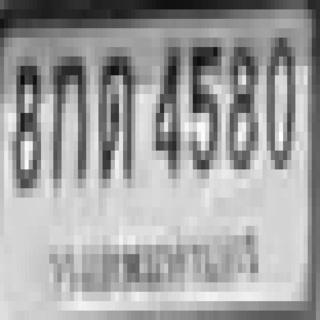A01: (45, 38, 90, 188)
A20: (90, 47, 135, 179)
N00: (263, 38, 291, 160)
N04: (148, 38, 180, 169)
N05: (185, 47, 217, 169)
N08: (8, 56, 45, 198), (222, 47, 254, 169)
